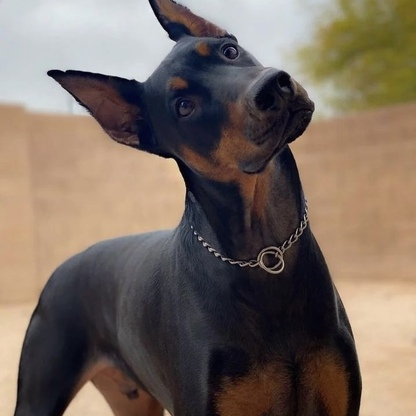doberman: (15, 11, 367, 416)
